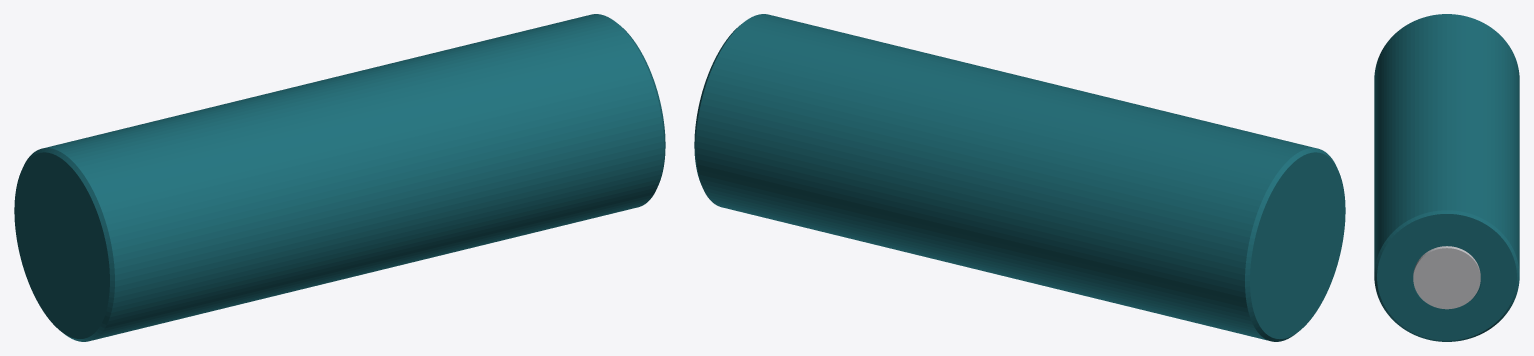
Rendered from molicel-p42a.glb.
3 renders of one model, left to right at view 1: azimuth 30°, elevation 25°; view 2: azimuth 150°, elevation 25°; view 3: azimuth 270°, elevation 25°, orthographic. The views are drawn at different scales.
Visible parts, largest first — view 1: molicel-p42a; view 2: molicel-p42a; view 3: molicel-p42a.
Boxes of the visible parts, x1,y1,x2,y2 form: molicel-p42a: [14, 14, 665, 341]; molicel-p42a: [694, 14, 1345, 341]; molicel-p42a: [1374, 14, 1519, 341].
Size of the model in its own units: 70.15 by 21.55 by 21.55.
